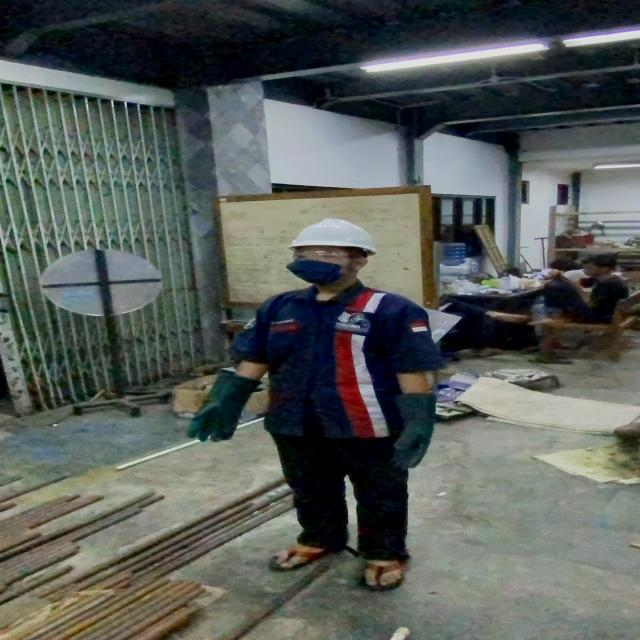face_mask: (285, 247, 355, 286)
glasses: (291, 247, 356, 264)
hand_glove: (179, 394, 256, 446), (386, 425, 444, 472)
head_helmet: (287, 217, 378, 250)
person: (174, 215, 448, 592)
